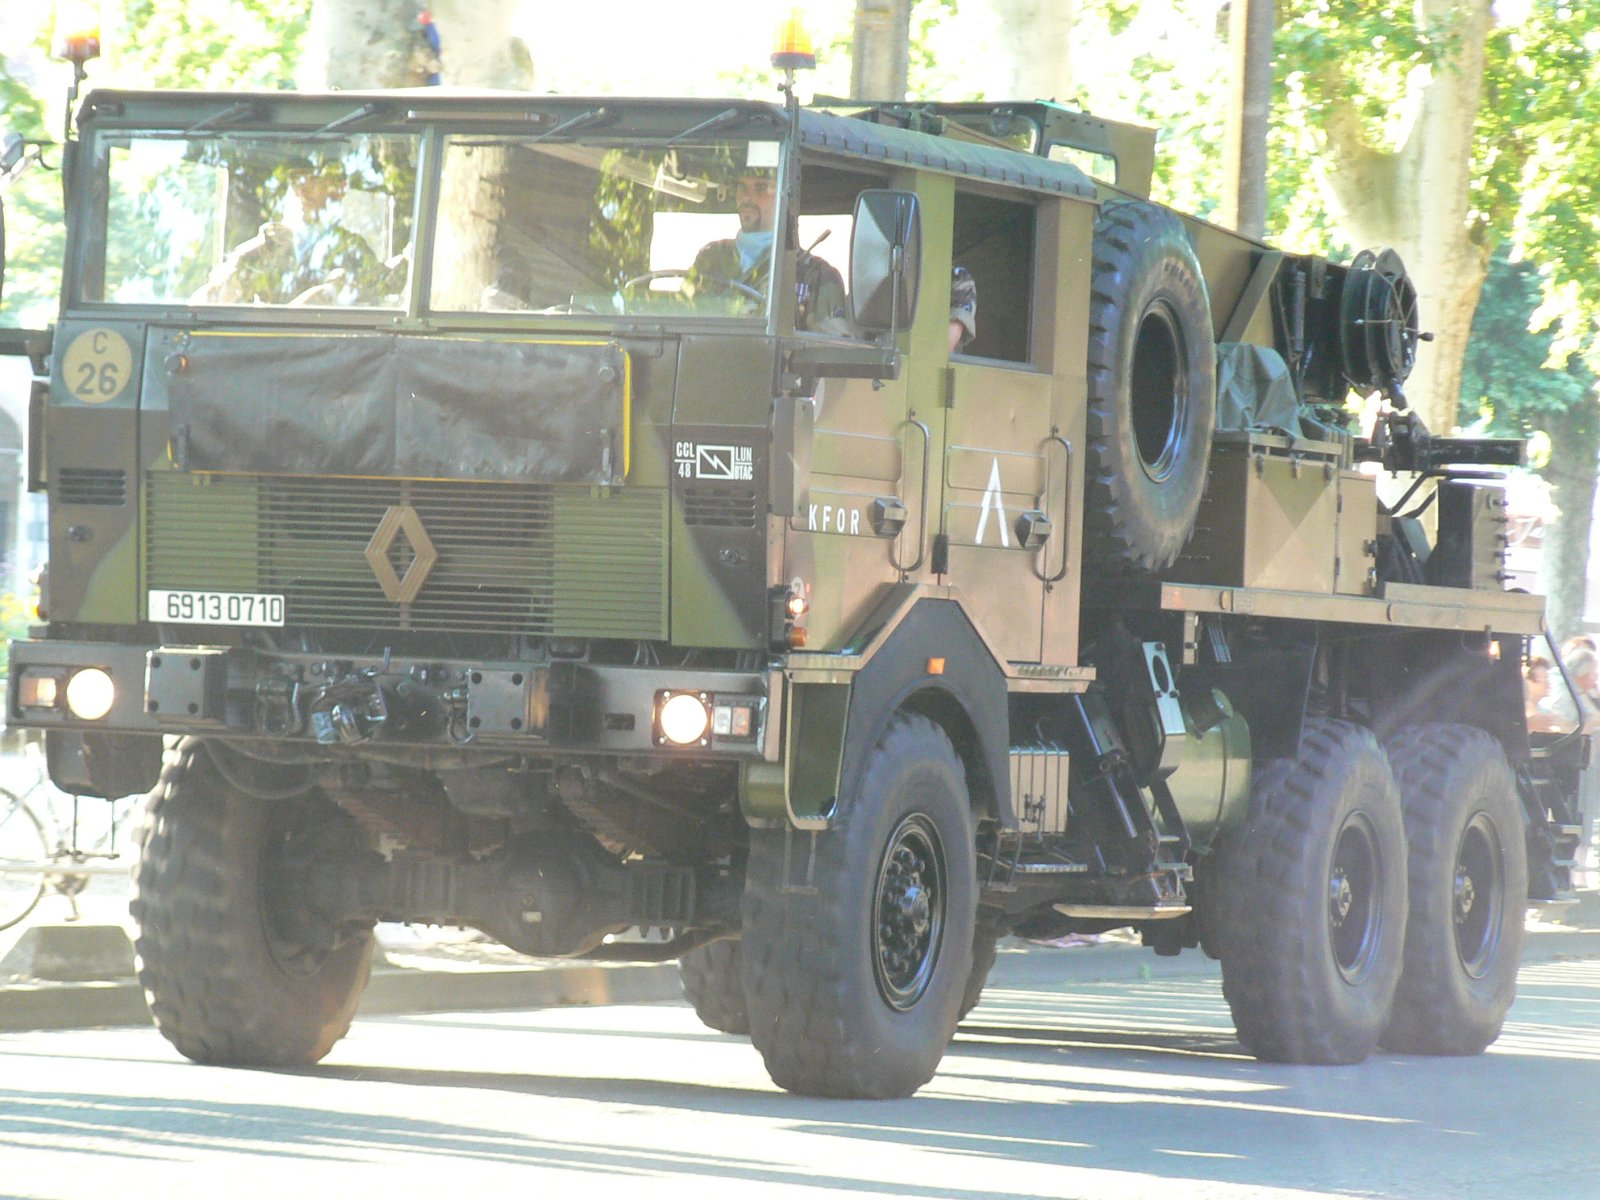license_plate: (143, 586, 289, 633)
